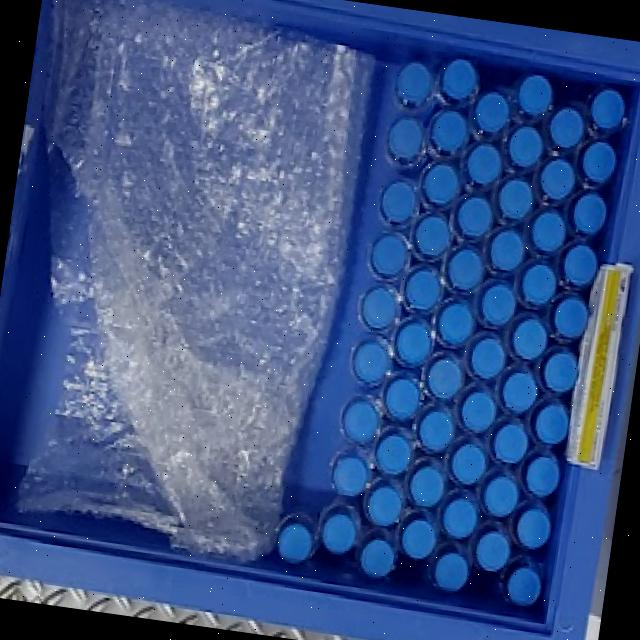vials: (430, 111, 468, 155), (343, 399, 379, 444), (388, 118, 423, 164), (396, 321, 431, 367), (396, 63, 432, 107), (438, 301, 474, 345), (457, 196, 493, 239), (448, 248, 484, 291), (371, 234, 407, 277), (405, 268, 441, 311), (353, 341, 389, 384), (384, 377, 420, 420), (483, 475, 519, 518), (321, 512, 357, 555), (518, 74, 553, 118), (441, 60, 477, 102), (466, 144, 502, 186), (442, 497, 478, 539), (423, 164, 458, 207), (381, 181, 416, 224), (563, 244, 598, 287), (481, 283, 516, 326), (512, 318, 547, 361), (361, 287, 396, 330), (532, 210, 566, 254), (493, 423, 529, 464), (277, 523, 313, 564), (590, 89, 625, 131), (549, 107, 584, 149), (474, 93, 509, 135), (582, 142, 617, 184), (502, 371, 537, 413), (427, 358, 462, 400), (516, 508, 551, 550), (451, 443, 486, 485), (376, 433, 411, 475), (333, 455, 368, 497), (410, 465, 445, 507), (507, 565, 542, 607), (367, 485, 402, 527), (508, 126, 542, 169), (554, 296, 588, 339), (419, 409, 453, 452), (476, 530, 510, 573), (470, 339, 506, 379), (543, 352, 578, 393), (534, 404, 569, 445), (525, 456, 560, 497), (461, 391, 496, 432), (434, 552, 469, 593), (540, 158, 574, 200), (499, 179, 533, 221), (415, 216, 449, 258), (522, 264, 556, 306), (490, 230, 524, 272), (360, 538, 395, 578), (573, 194, 606, 236), (402, 518, 435, 560)
